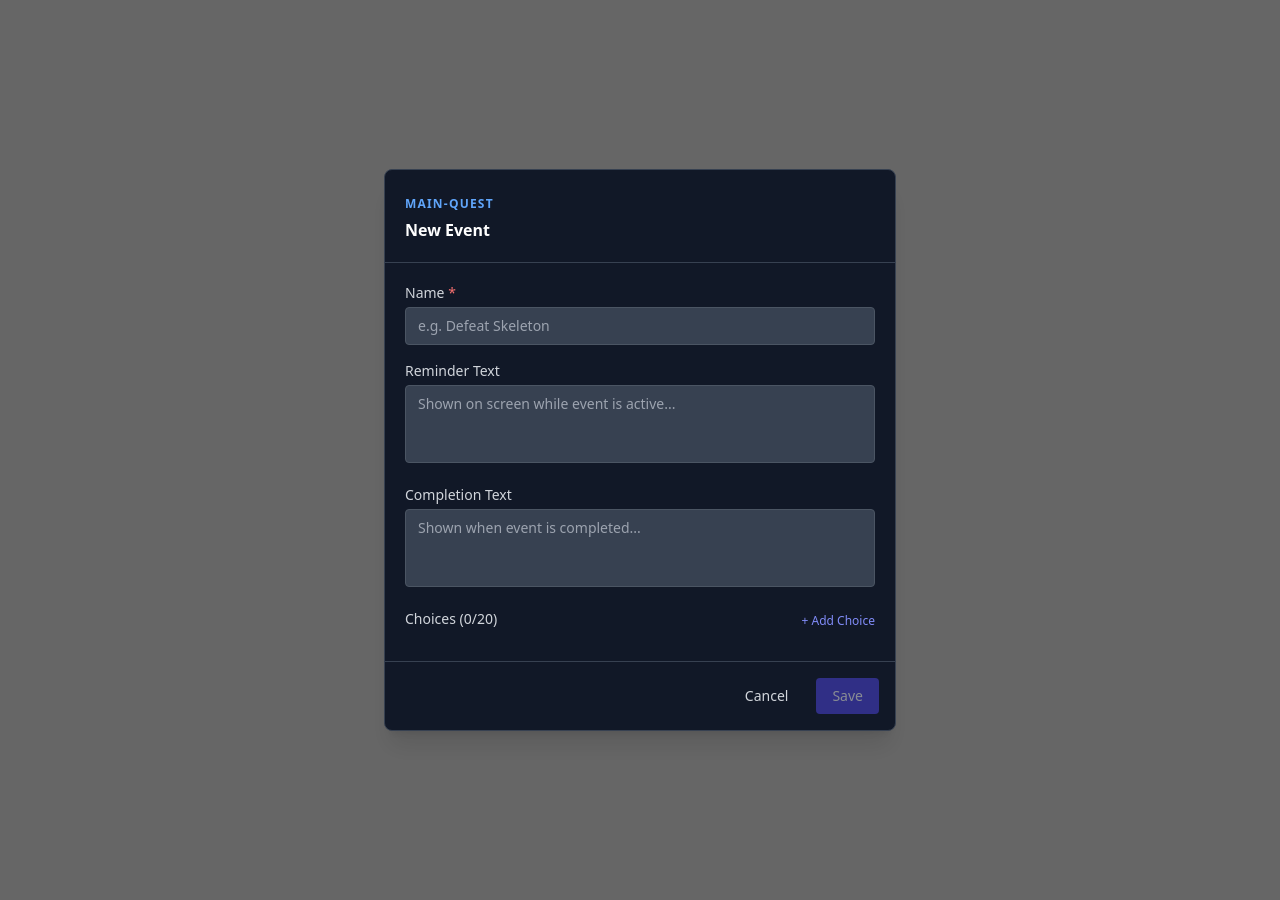
Test: EventDetailPopup › adds a choice row when Add Choice is clicked
Click the button "+ Add Choice": (838, 621) [802, 613, 875, 629]
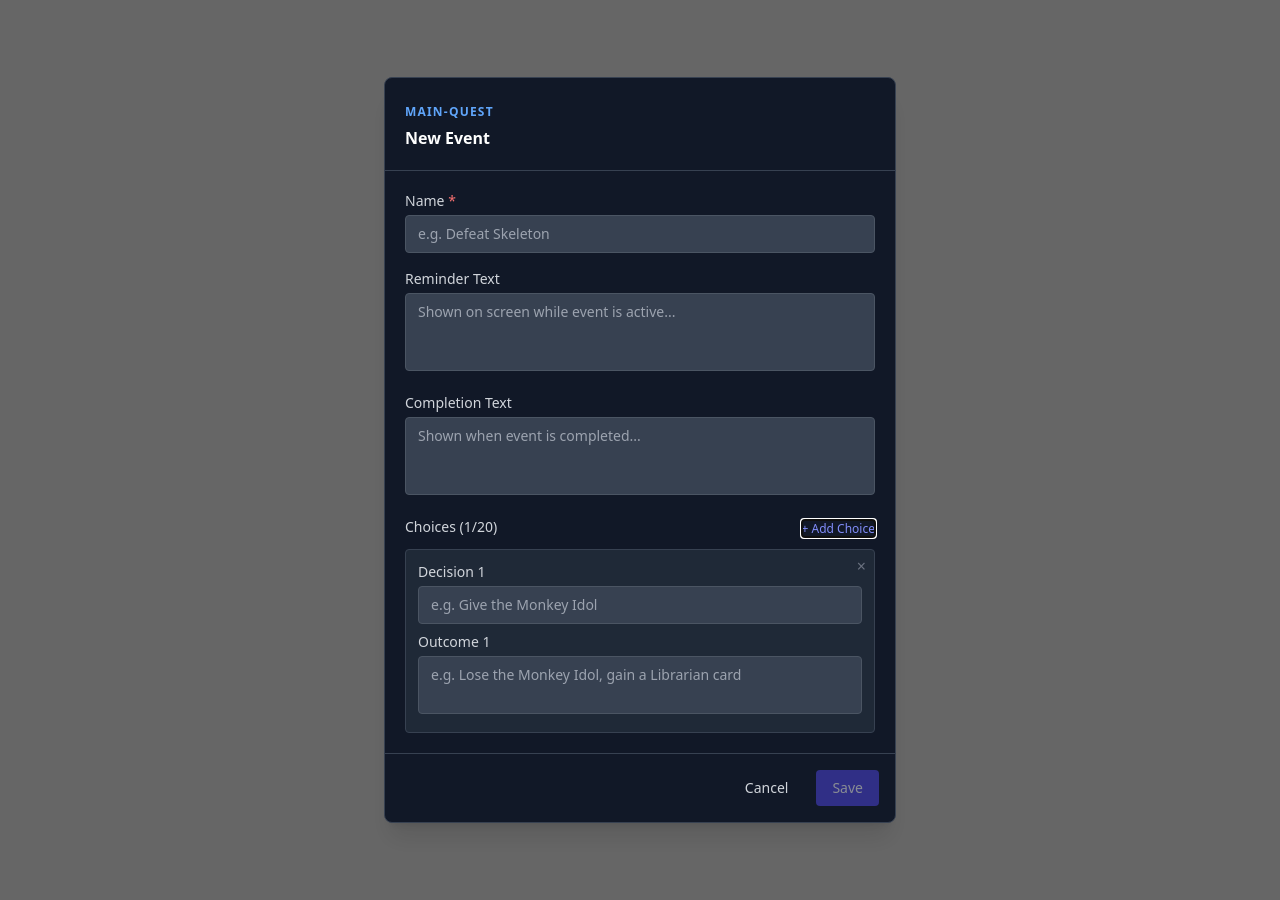
Check: the field labelled "Decision 1" is shown, box [418, 586, 862, 624]
Check: the text box labelled "Outcome 1" is shown, box [418, 656, 862, 714]
